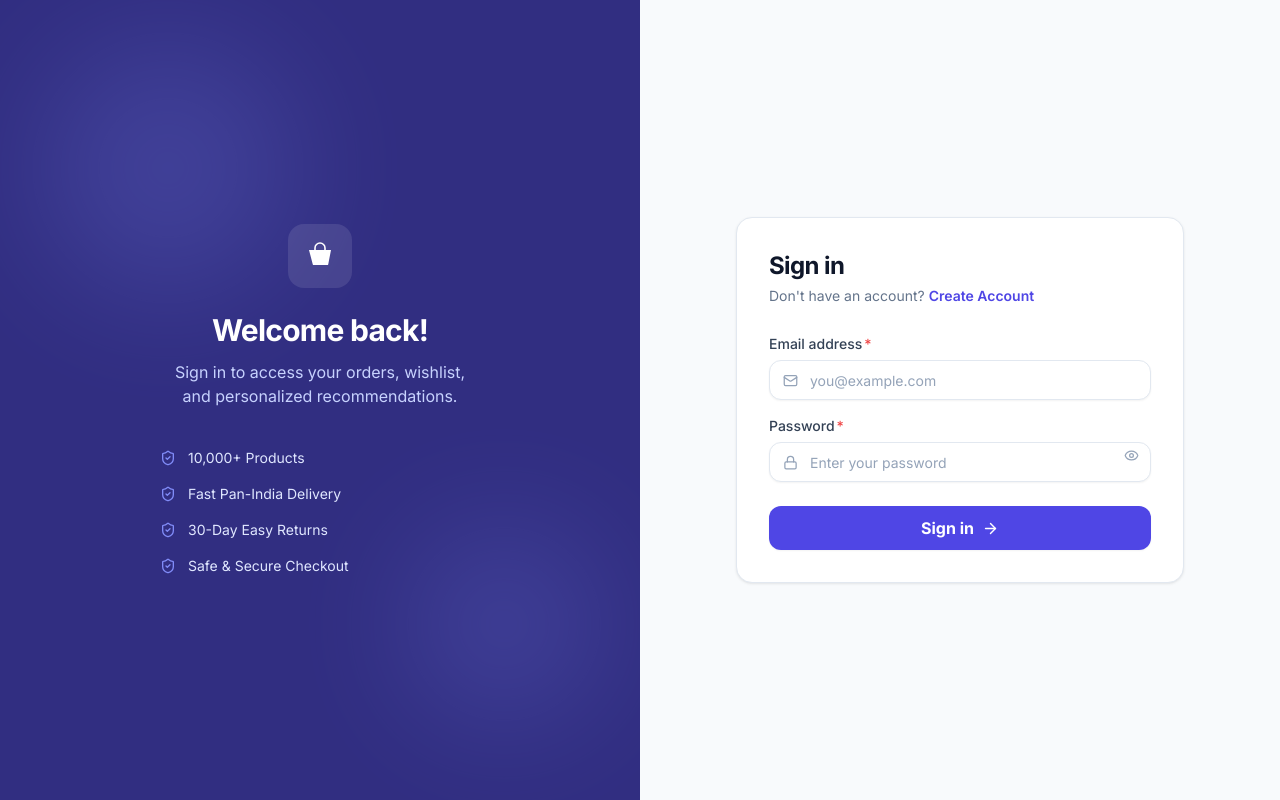
Test: LoginPage QA & Polish Pass › validates invalid email format and minimum password length
The image size is (1280, 800).
Type "notanemail" into the field labelled "Email address*" at (960, 380), box [769, 360, 1151, 400]
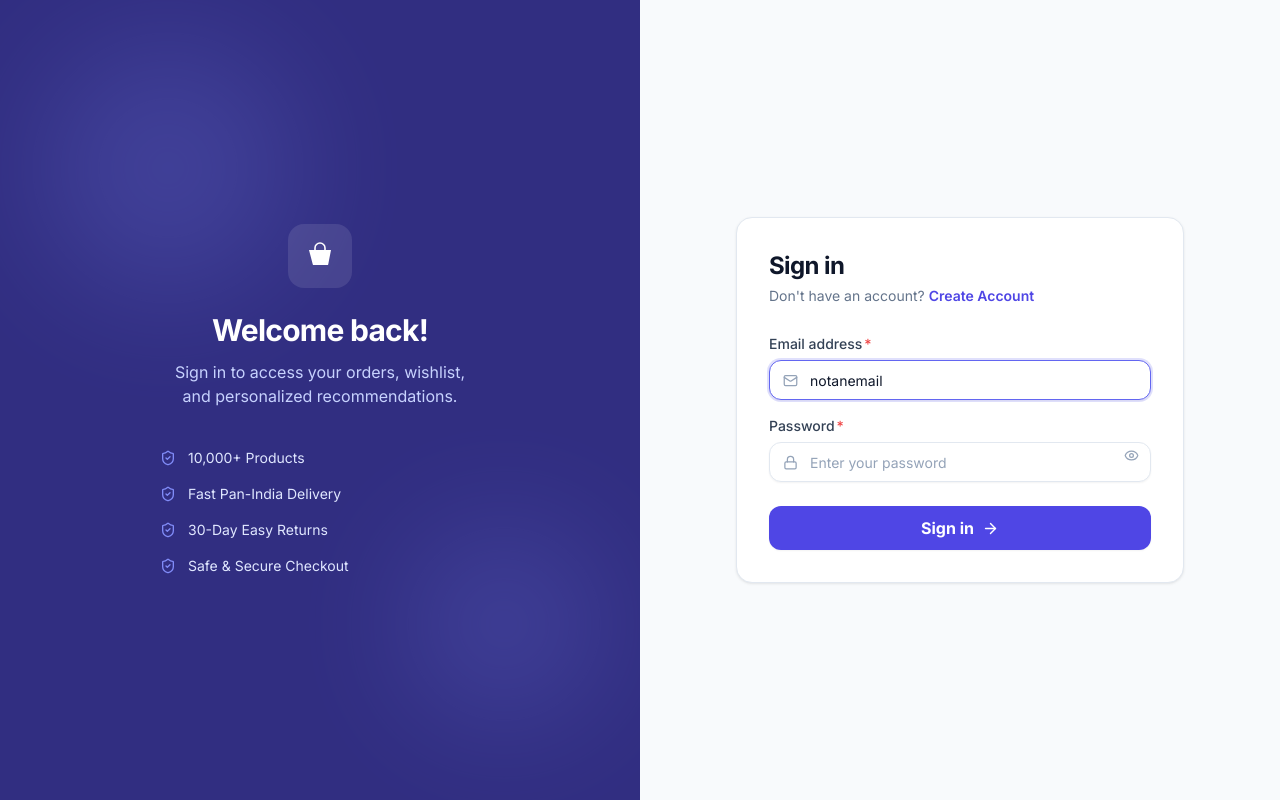
Type "123" into the password field labelled "Password*" at (960, 462), box [769, 442, 1151, 482]
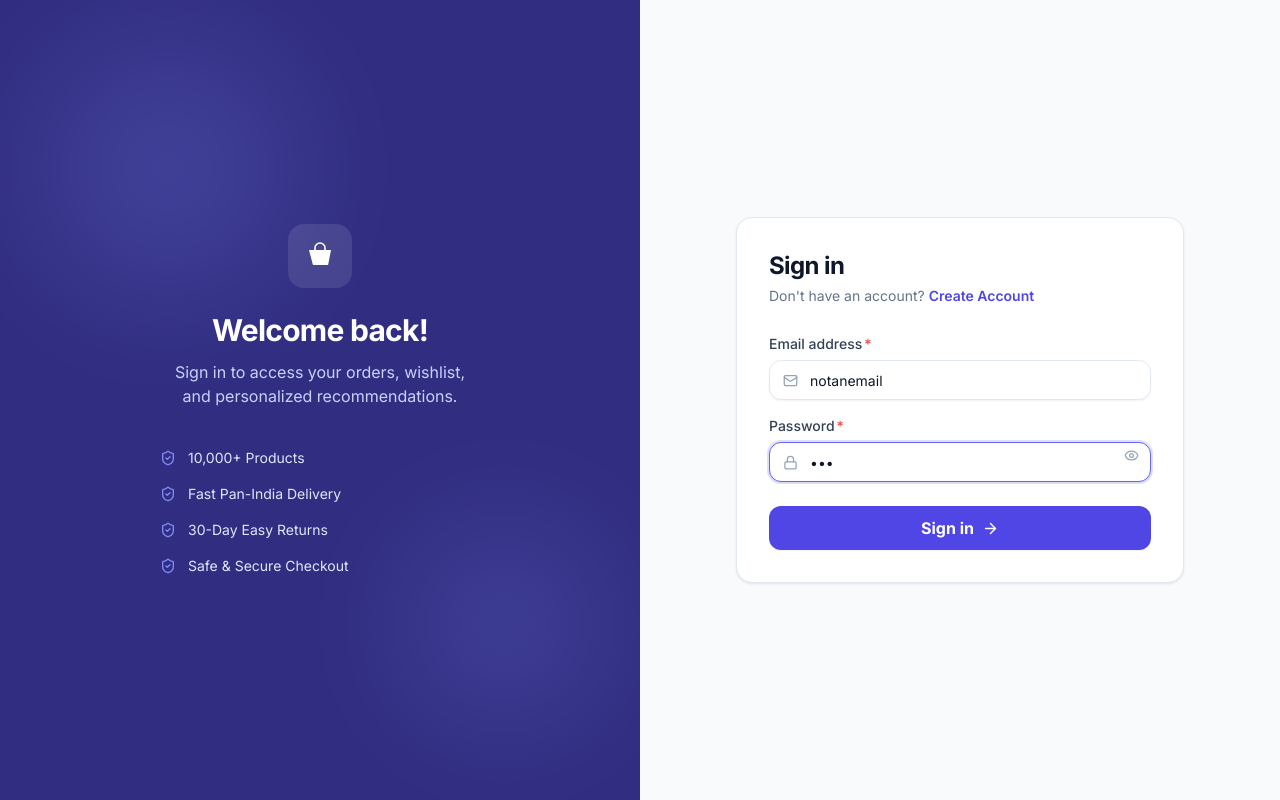
Click the button "Sign in" at (960, 528), box [769, 506, 1151, 550]
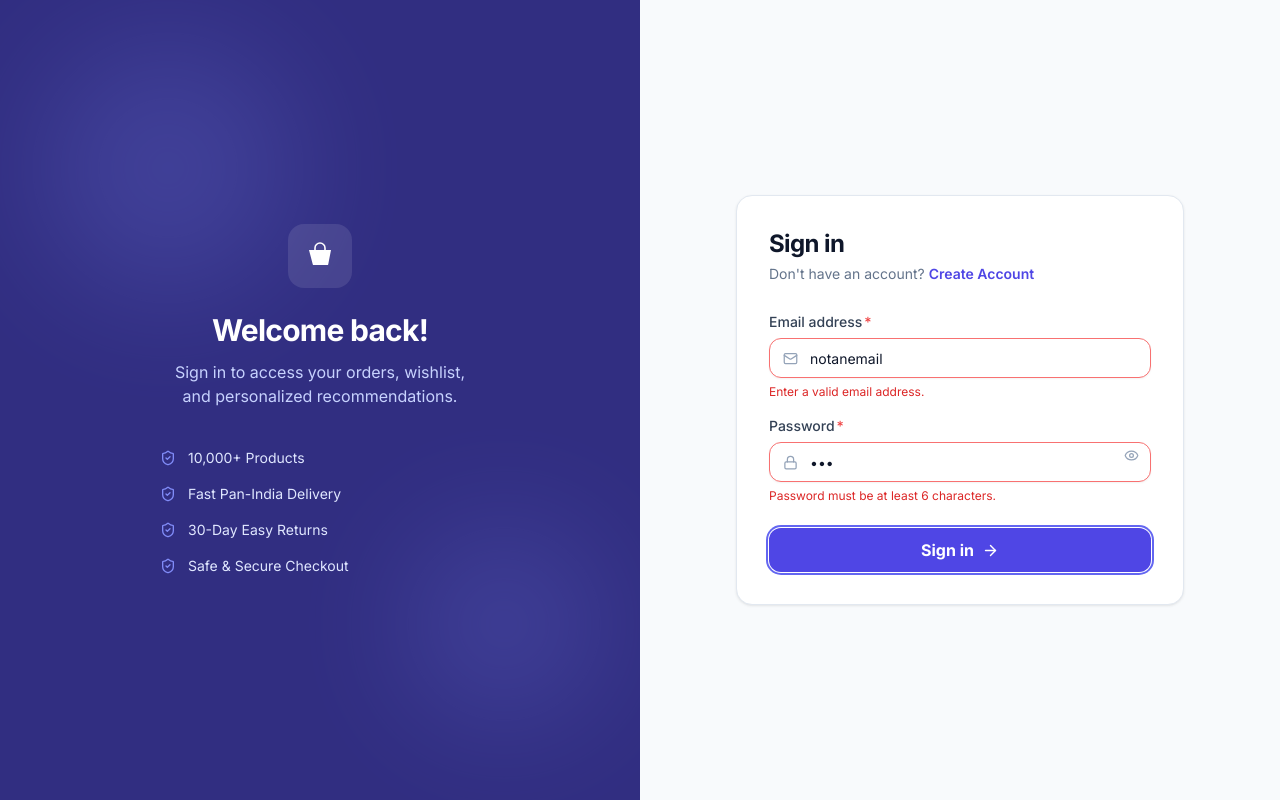
Check: the text "Enter a valid email address." is shown, box [769, 384, 924, 399]
Check: the text "Password must be at least 6 characters." is shown, box [769, 488, 996, 503]
